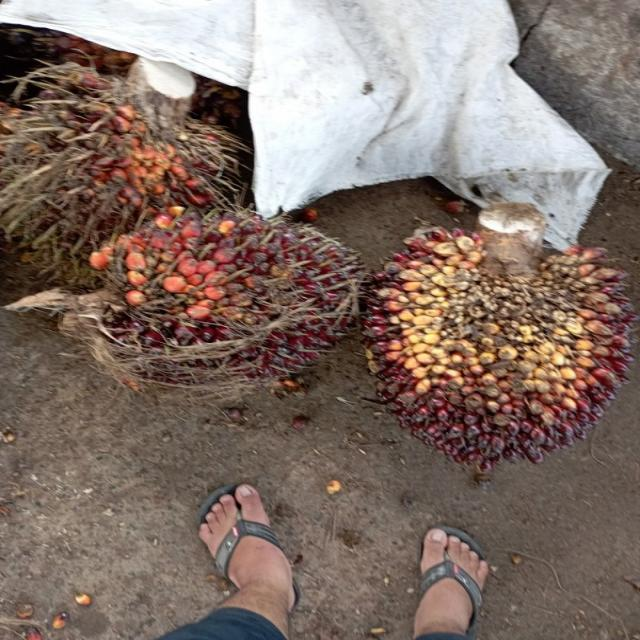fraksi 1: (366, 218, 628, 471), (108, 211, 358, 387), (6, 79, 230, 275)
